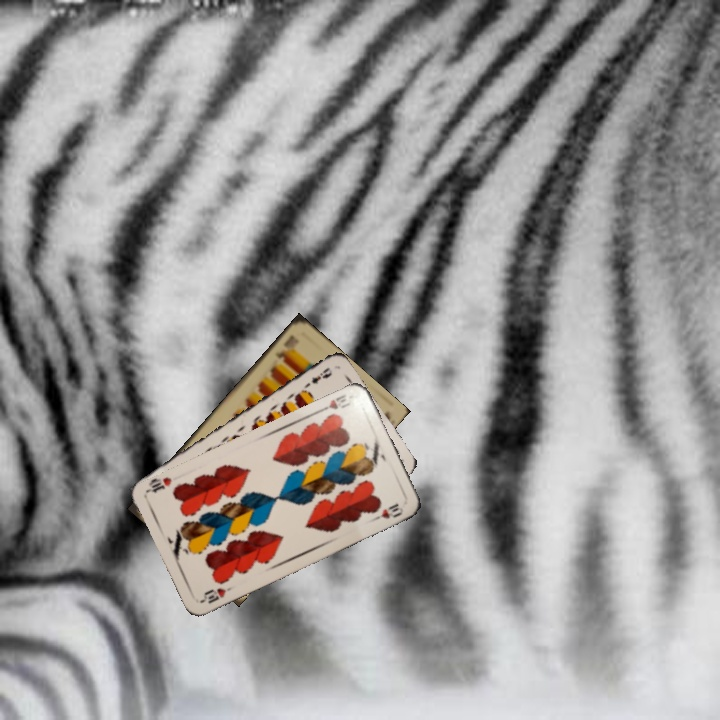E10: (271, 331, 298, 364)
E9: (300, 363, 335, 393)
H10: (197, 582, 236, 606), (316, 390, 353, 415)
